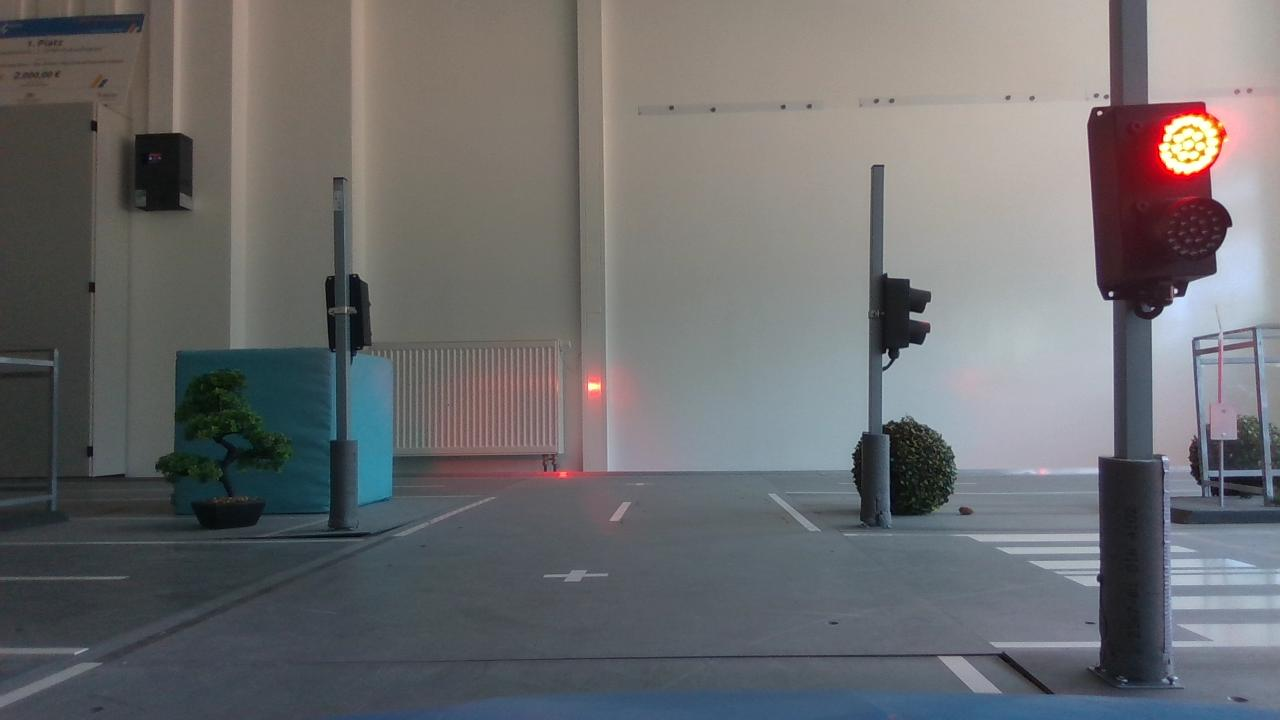traffic_light_red: (1074, 94, 1242, 321)
